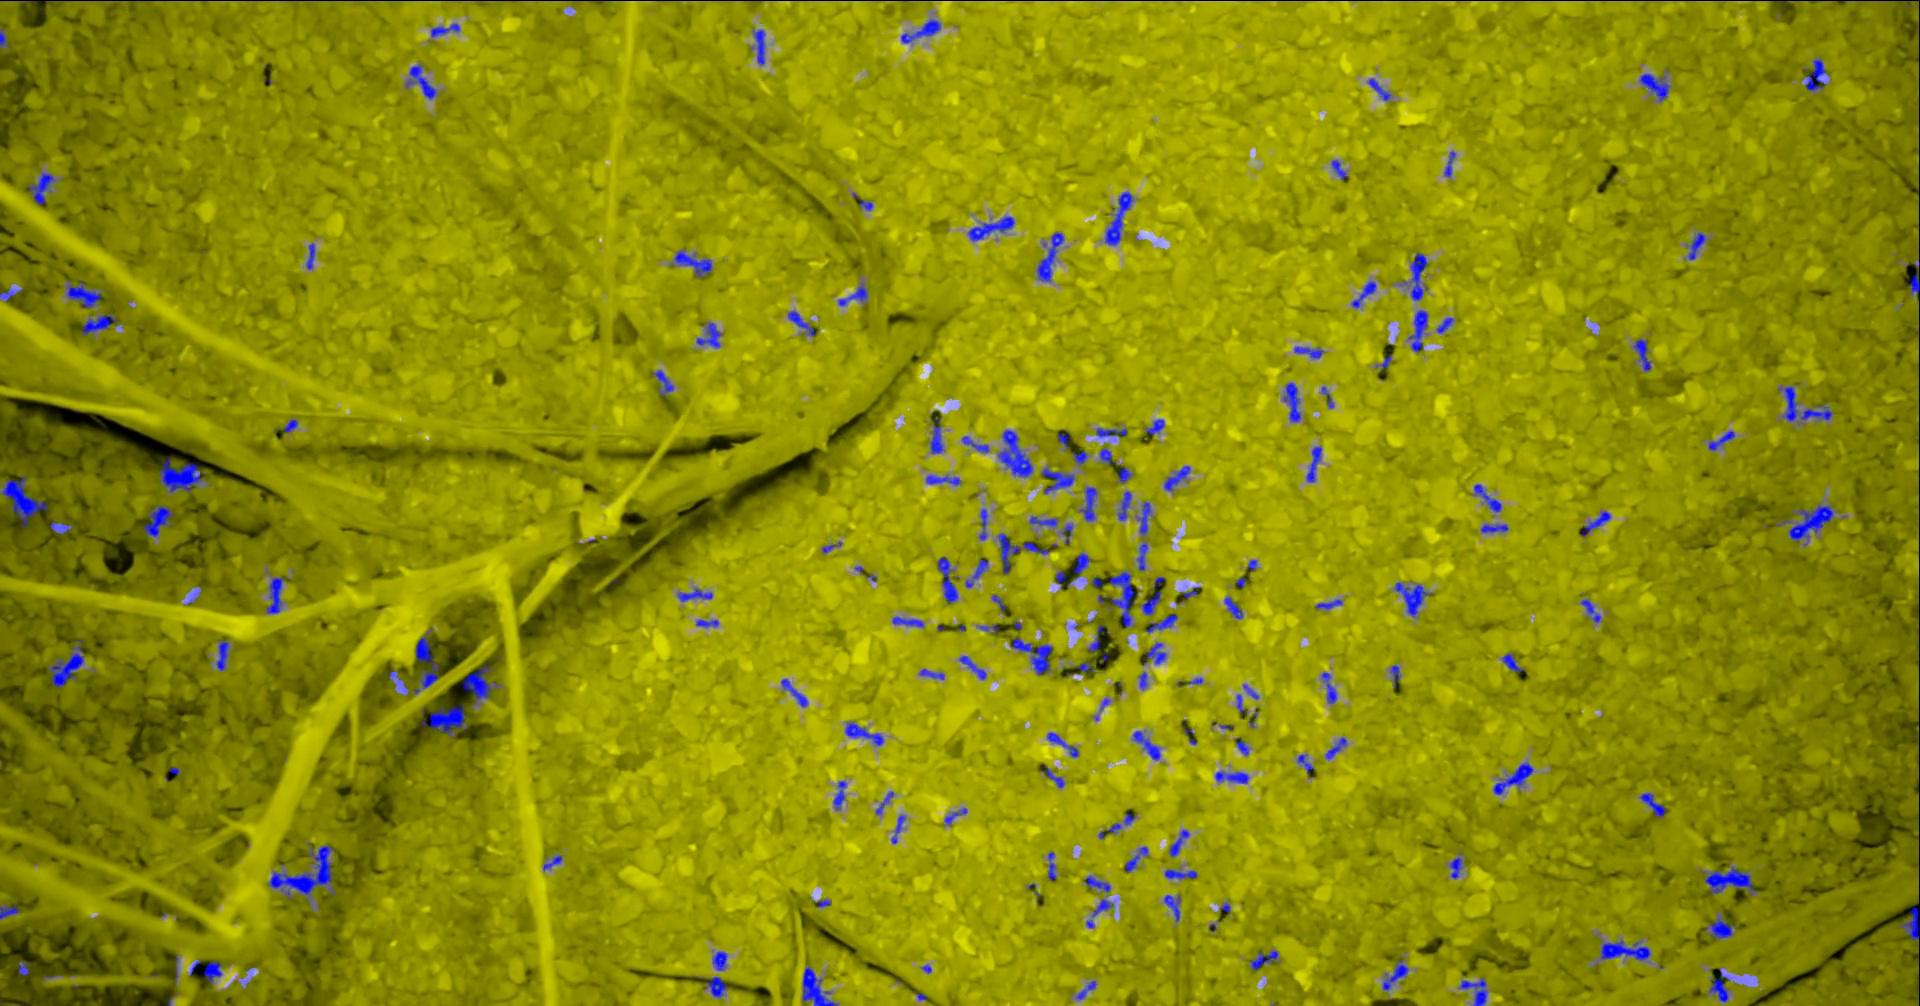ant: (1, 476, 50, 526), (999, 532, 1050, 573), (1782, 385, 1832, 423), (50, 639, 85, 687), (1790, 504, 1835, 541), (999, 429, 1034, 476), (1106, 191, 1135, 245), (1013, 636, 1053, 674), (1110, 572, 1137, 627), (414, 635, 439, 694), (1705, 866, 1757, 894), (423, 705, 469, 737), (161, 457, 203, 492), (803, 967, 839, 1005), (463, 664, 498, 705), (1037, 232, 1065, 281), (1902, 906, 1920, 981), (1396, 580, 1432, 616), (1495, 762, 1535, 794), (969, 216, 1016, 241), (408, 64, 438, 99), (1603, 939, 1652, 960), (676, 249, 712, 277), (1100, 812, 1137, 838), (69, 279, 103, 307), (846, 721, 885, 746), (902, 19, 942, 42), (145, 506, 175, 536), (29, 171, 57, 205), (1410, 251, 1429, 300), (938, 558, 959, 602), (1143, 575, 1166, 615), (1641, 72, 1671, 102), (267, 575, 290, 614), (1048, 730, 1079, 757), (1043, 467, 1076, 493), (1384, 956, 1410, 989), (1476, 483, 1503, 512), (1134, 730, 1162, 760), (1087, 898, 1115, 927), (1460, 977, 1490, 1005), (1410, 309, 1429, 351), (83, 312, 117, 335), (782, 678, 809, 708), (789, 310, 817, 337), (1806, 58, 1829, 90), (1164, 465, 1192, 490), (1583, 511, 1611, 536), (1705, 916, 1737, 937), (1352, 279, 1377, 307), (1710, 968, 1731, 1001), (961, 655, 988, 680), (1641, 793, 1667, 817), (1285, 382, 1302, 420), (697, 323, 723, 347), (1126, 846, 1149, 873), (1147, 614, 1178, 633), (968, 559, 989, 587), (839, 285, 869, 305), (1081, 486, 1098, 520), (1144, 641, 1168, 666), (653, 370, 676, 395), (1170, 829, 1191, 856), (1634, 338, 1652, 370), (1308, 446, 1323, 481), (1252, 950, 1279, 970), (931, 417, 945, 453), (1709, 431, 1736, 450), (963, 434, 990, 452), (1370, 77, 1392, 100), (1326, 737, 1349, 758), (706, 976, 729, 997), (1582, 598, 1603, 622), (1689, 232, 1707, 259), (1164, 894, 1182, 921), (1323, 672, 1338, 702), (1045, 765, 1065, 788), (1139, 500, 1153, 533), (1074, 553, 1092, 578), (1090, 625, 1106, 652), (679, 588, 714, 601), (1225, 597, 1244, 619), (1503, 653, 1525, 672), (204, 962, 223, 983), (432, 23, 461, 37), (217, 640, 231, 669), (927, 474, 963, 485), (877, 791, 895, 814), (1086, 875, 1112, 890), (1119, 492, 1133, 520), (893, 815, 907, 843), (946, 807, 968, 824), (1077, 981, 1098, 998), (1217, 771, 1250, 782), (1295, 345, 1324, 358), (836, 780, 848, 809), (1298, 754, 1317, 774), (1910, 259, 1920, 295), (756, 29, 766, 64), (894, 616, 924, 627), (1166, 869, 1197, 879), (1138, 542, 1149, 570), (1333, 159, 1349, 179), (1097, 427, 1128, 437), (543, 855, 564, 870), (1, 904, 22, 920), (1031, 514, 1058, 526), (919, 668, 946, 680), (1057, 570, 1074, 587), (1445, 151, 1457, 177), (1, 288, 24, 301), (1147, 419, 1166, 434), (51, 521, 74, 533), (980, 508, 989, 540), (1437, 318, 1455, 333), (714, 951, 728, 970), (1049, 851, 1058, 880), (1322, 386, 1335, 406), (1451, 857, 1464, 878), (1117, 466, 1134, 481), (993, 594, 1007, 612), (307, 243, 316, 269), (1482, 523, 1509, 532), (1317, 600, 1343, 608), (1392, 664, 1402, 687), (1101, 447, 1115, 464), (1058, 431, 1070, 448), (1237, 737, 1250, 754), (1063, 523, 1074, 542), (1074, 450, 1090, 464), (284, 419, 298, 432), (697, 619, 720, 626), (1079, 661, 1095, 672), (19, 960, 30, 976), (1140, 671, 1149, 688), (1, 28, 9, 47), (860, 199, 874, 210), (1919, 614, 1920, 666)
